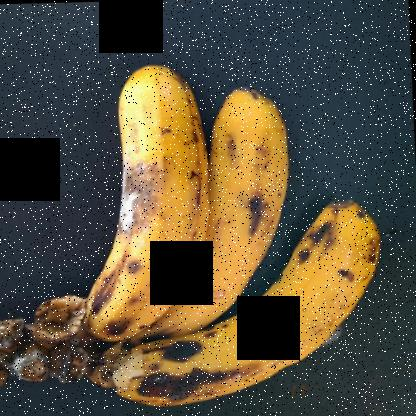overripe: (117, 196, 381, 416), (72, 51, 214, 342), (164, 74, 306, 337)
